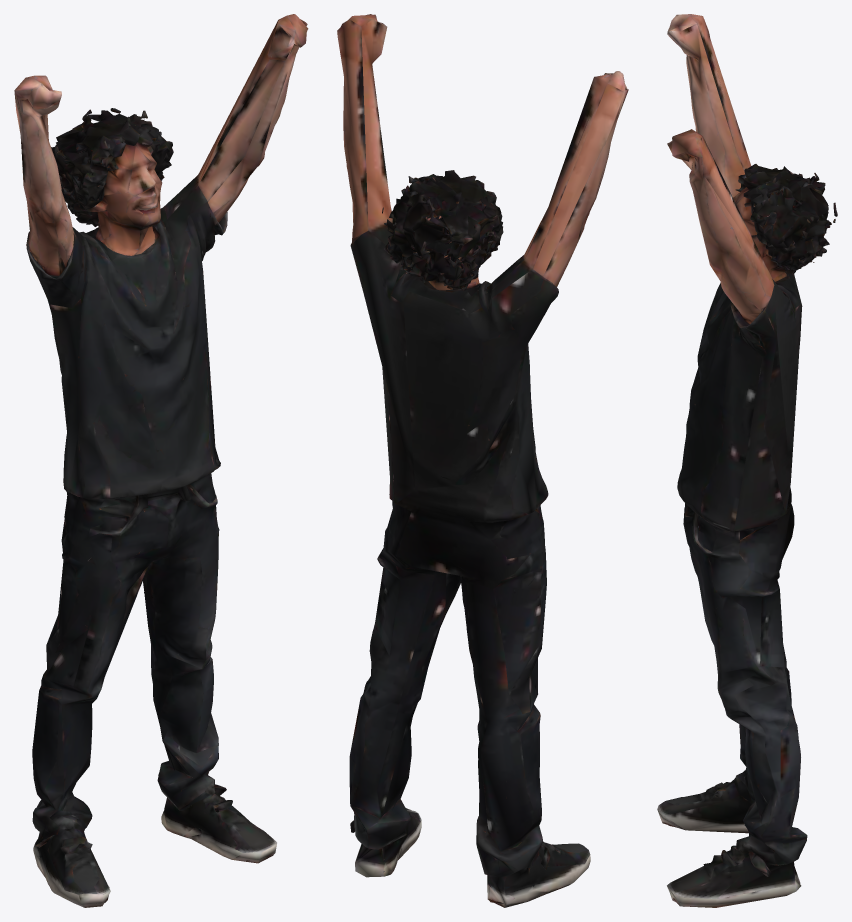
The model's file is fan-arms-up-s2-lo.glb.
The picture shows the model from 3 angles, left to right: view 1: azimuth 30°, elevation 25°; view 2: azimuth 150°, elevation 25°; view 3: azimuth 270°, elevation 25°; orthographic projection. The views are drawn at different scales.
Parts seen in each view (by area): view 1: geometry_0; view 2: geometry_0; view 3: geometry_0.
Part boxes in pixels (x1=…): geometry_0: x1=14, y1=14, x2=308, y2=907; geometry_0: x1=337, y1=14, x2=628, y2=907; geometry_0: x1=657, y1=14, x2=837, y2=907.
Size of the model in its own units: 0.369 by 1 by 0.2083.
Materials: 1 (1 with a texture image).
